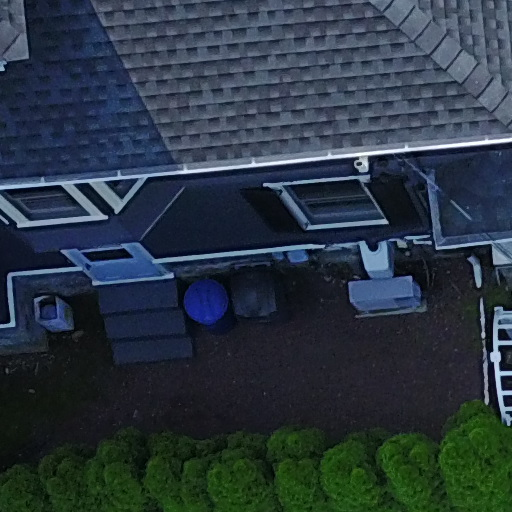trash bin: (174, 272, 239, 336), (225, 268, 292, 330)
